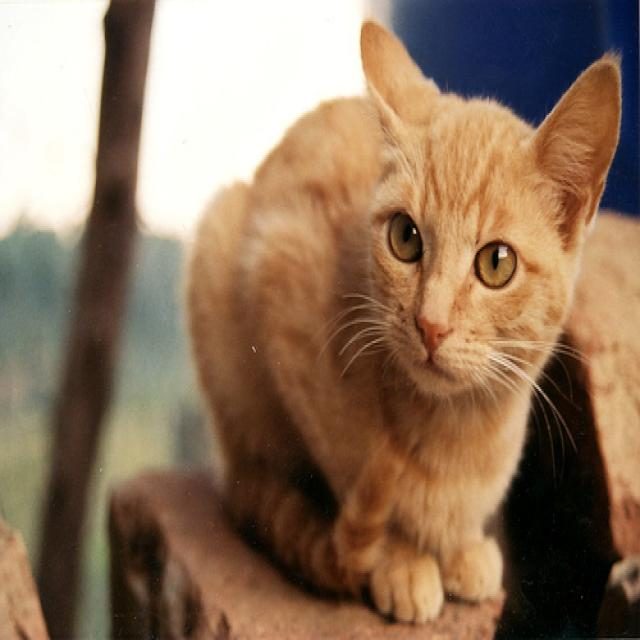left eye: (472, 236, 518, 289)
